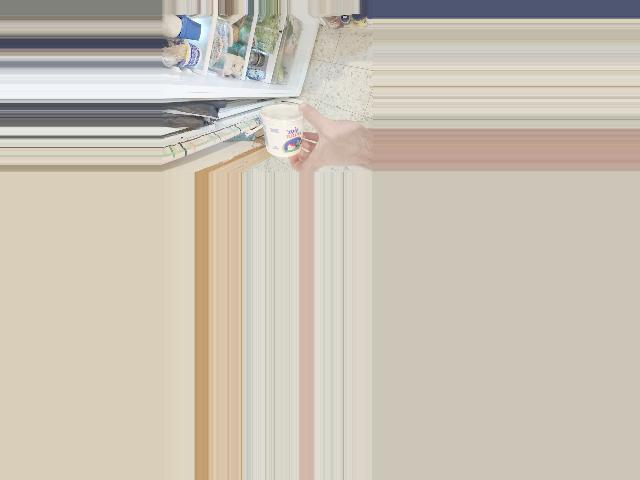cotage: (260, 103, 307, 159)
